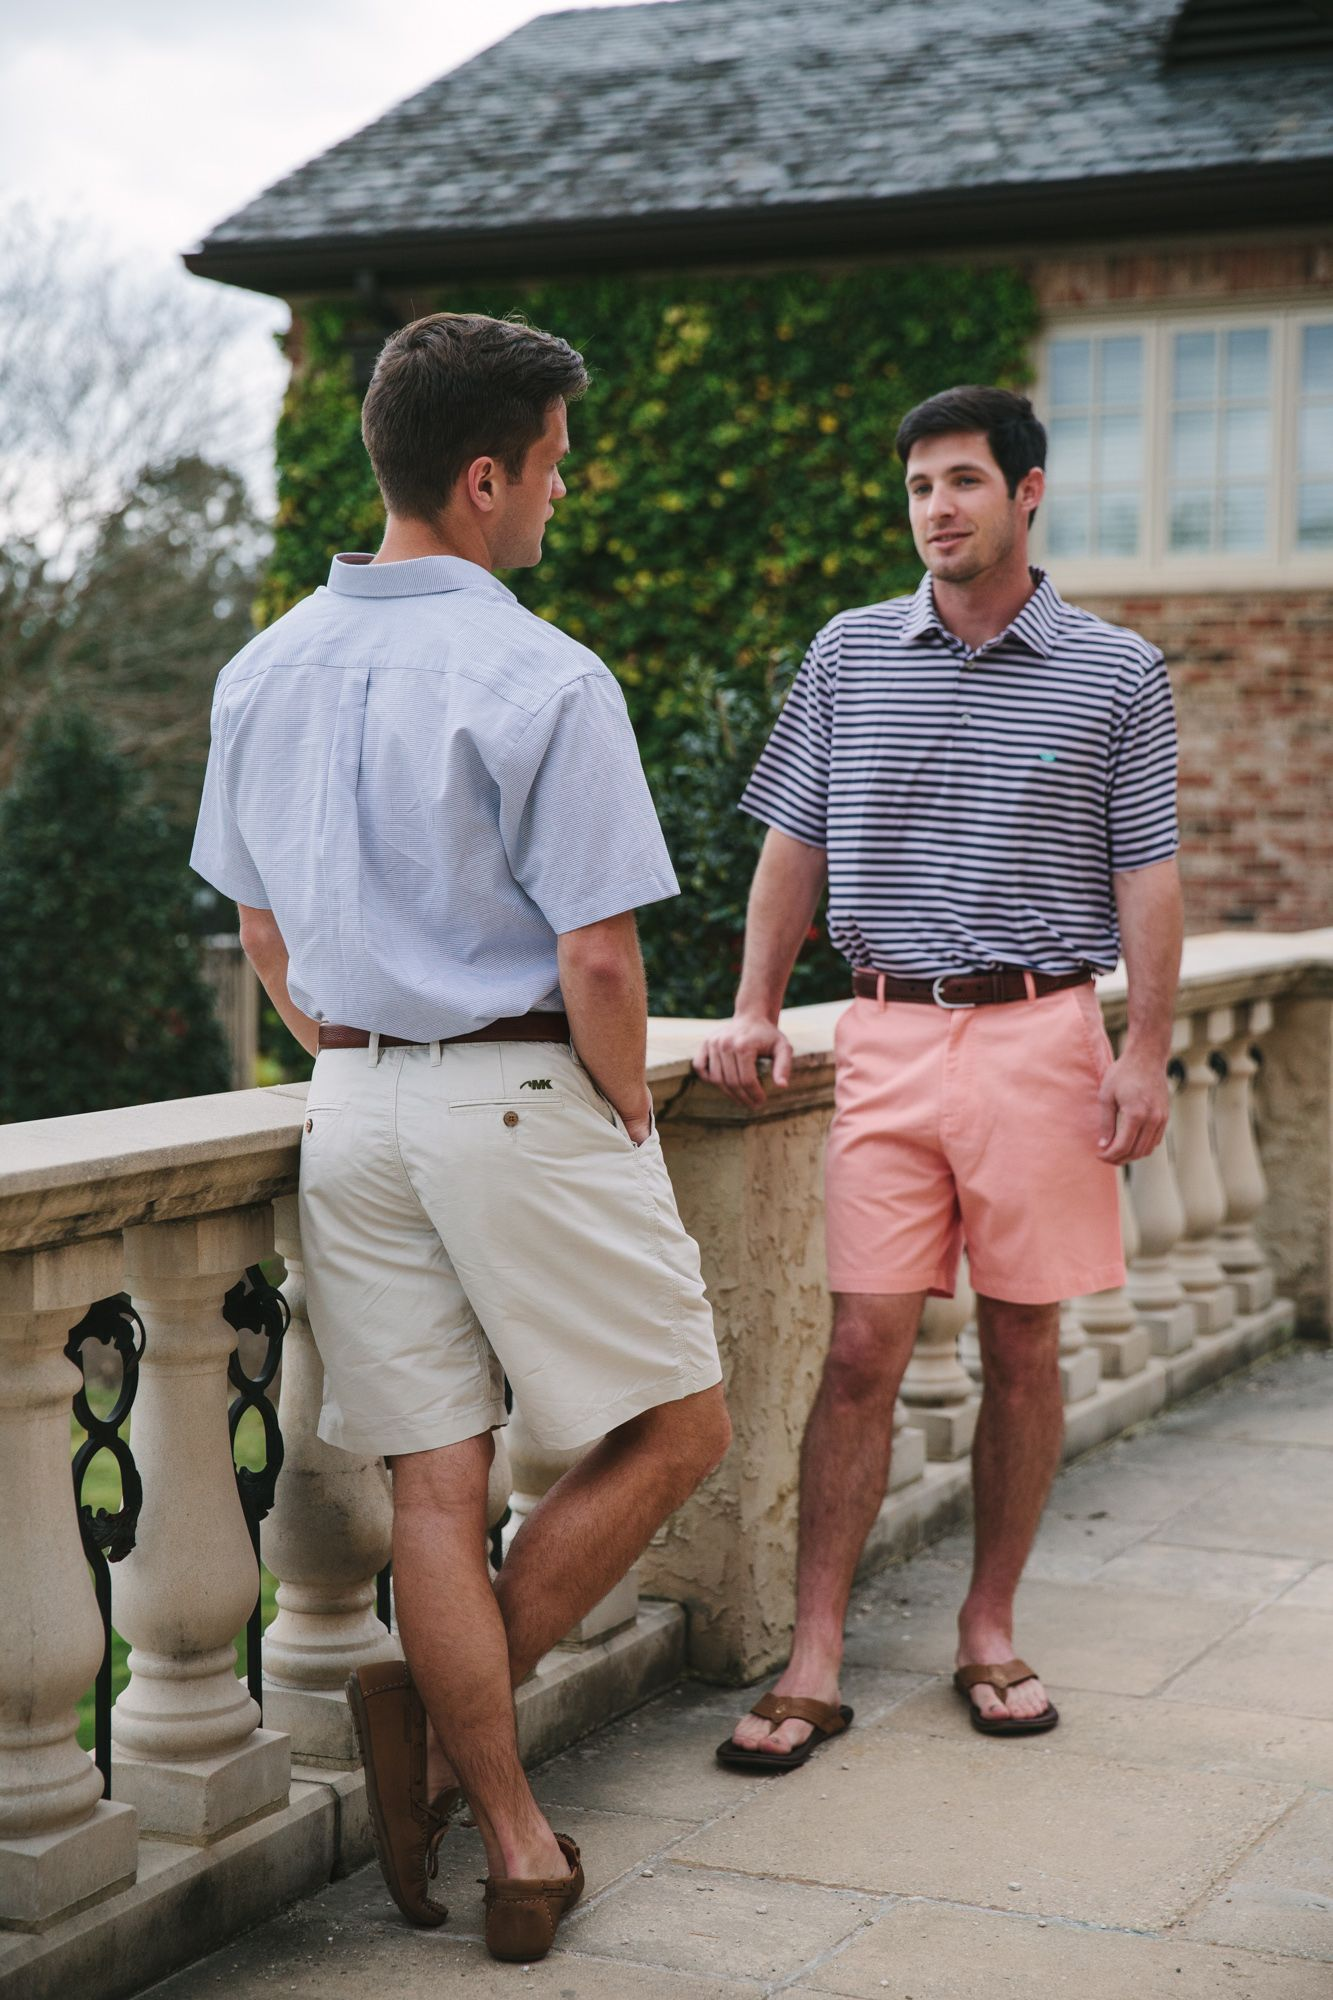Person: (179, 307, 727, 1963), (721, 389, 1188, 1779)
